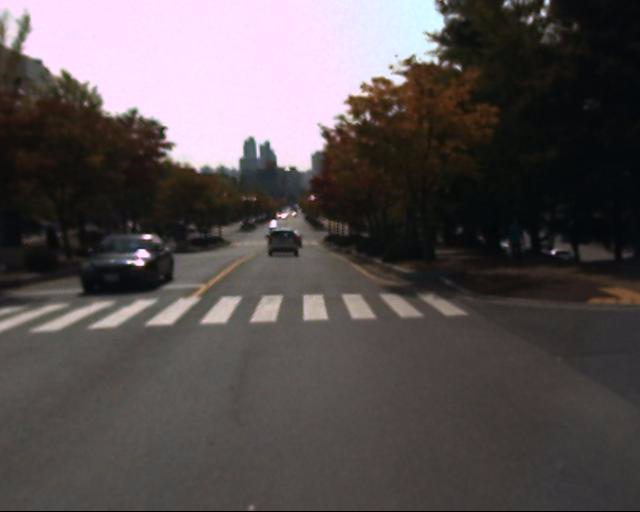person: (555, 201, 594, 269), (501, 201, 531, 265)
